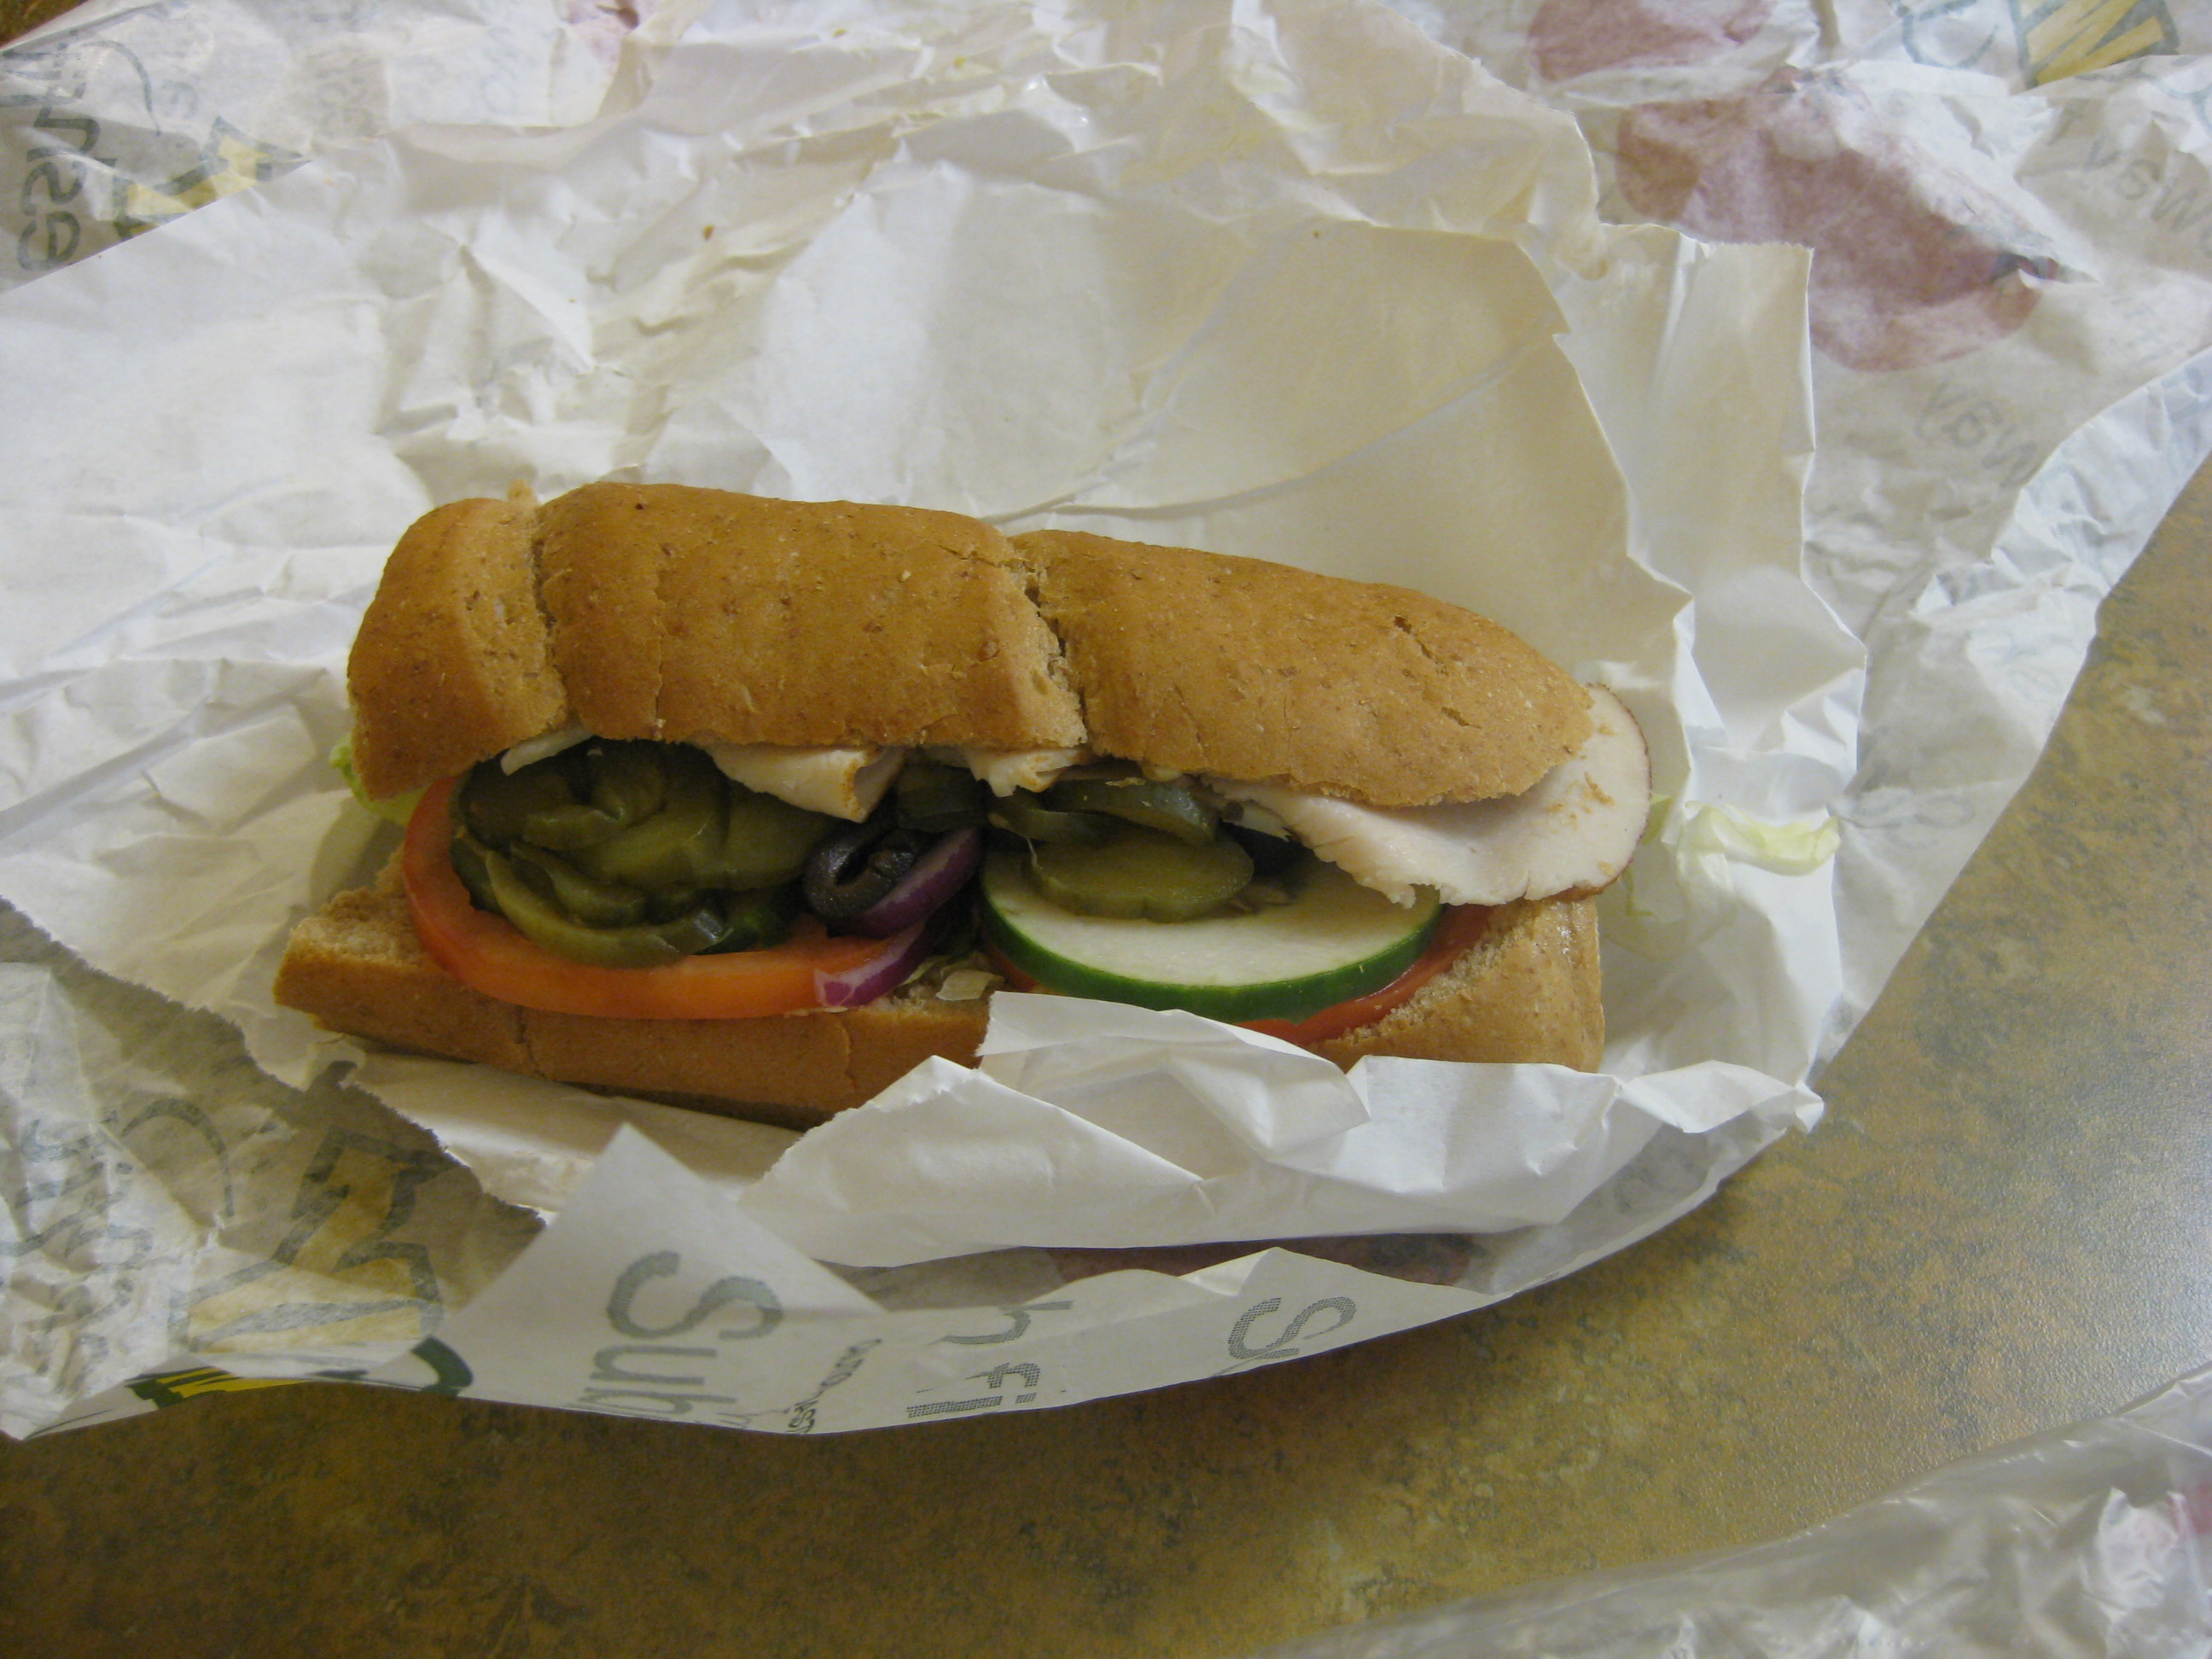sub: (273, 436, 1673, 1200)
